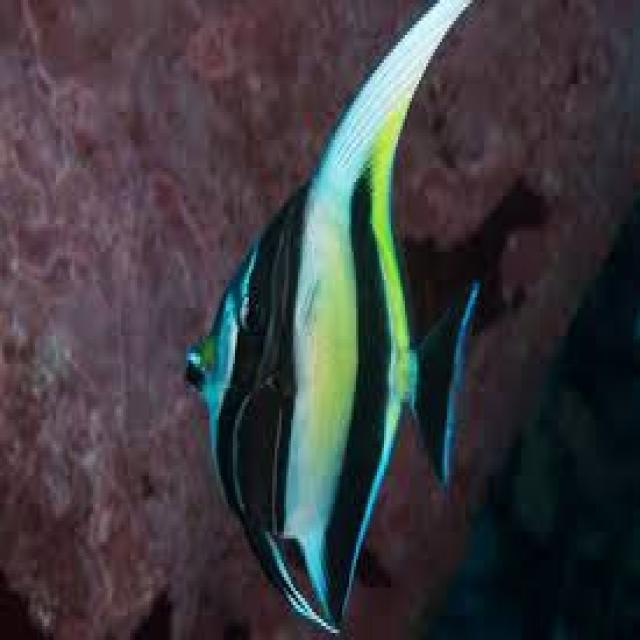MorishIdol: (182, 0, 479, 637)
